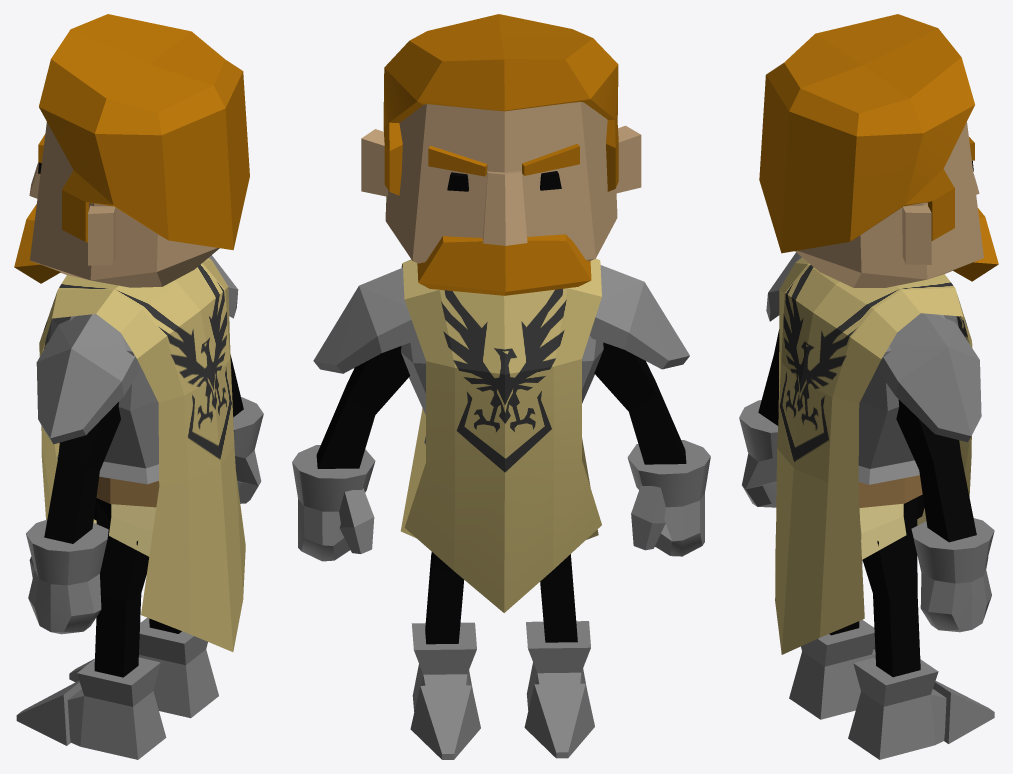
Rendered from questgiver_L3.glb.
3 renders of one model, left to right at view 1: azimuth 30°, elevation 25°; view 2: azimuth 150°, elevation 25°; view 3: azimuth 270°, elevation 25°, orthographic. The views are drawn at different scales.
Visible parts, largest first — view 1: Soldier_72; view 2: Soldier_72; view 3: Soldier_72.
Boxes of the visible parts, left/top/right/bottom form: Soldier_72: left=14, top=14, right=263, bottom=759; Soldier_72: left=292, top=14, right=710, bottom=759; Soldier_72: left=739, top=14, right=998, bottom=759.
Size of the model in its own units: 0.1115 by 0.2306 by 0.0806.
7 materials, 1 textured.
